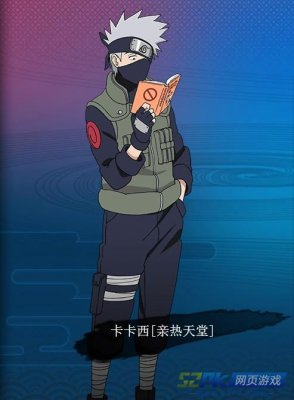kakashi: (106, 35, 154, 87)
